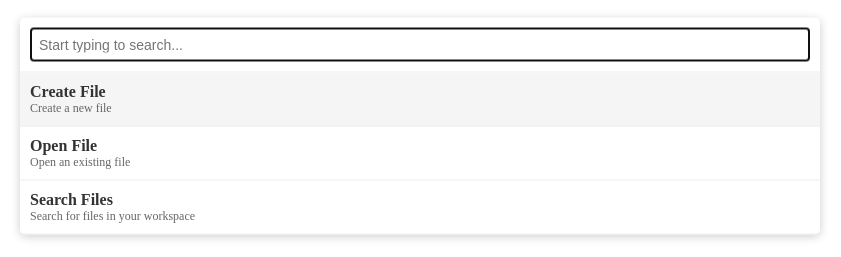
<CommandPalette /> › filters the commands based on the search input
The width and height of the screenshot is (841, 257).
Type "search" into the search field with placeholder "Start typing to search..." at (420, 45), box 30,28 -> 810,62
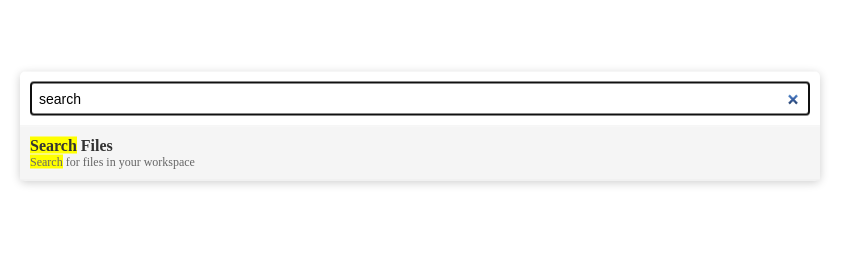
Expected: the element with class "command-item" reads "Search Files", 30,137 -> 113,154
Expected: the number of list items with class "command-item" is 1, 20,127 -> 820,181
